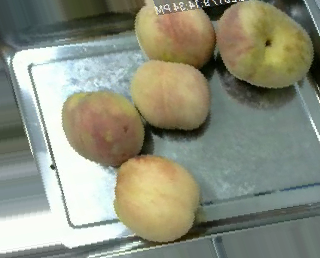Peach: (216, 0, 314, 87), (112, 154, 198, 241), (62, 90, 142, 167), (130, 59, 210, 131), (134, 0, 214, 69)
